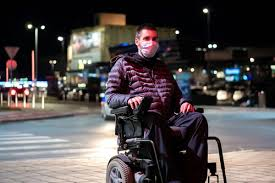mask: (140, 40, 159, 58)
